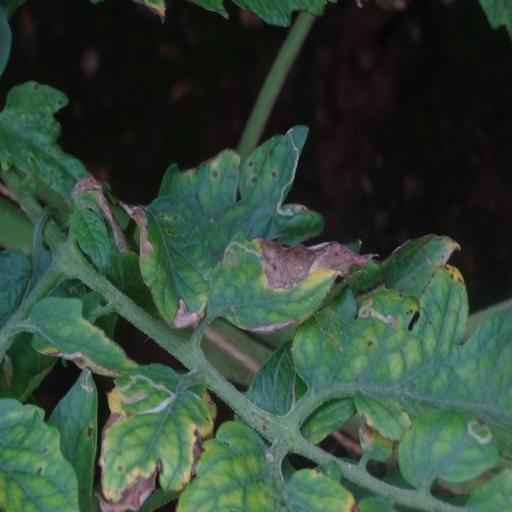disease_tomato: (203, 229, 381, 336), (94, 363, 214, 512)
